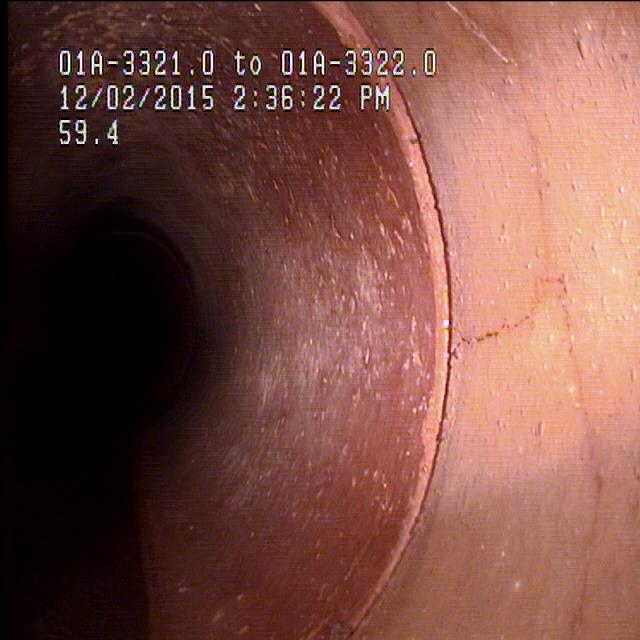Crack: (460, 249, 606, 382), (566, 385, 622, 630)
